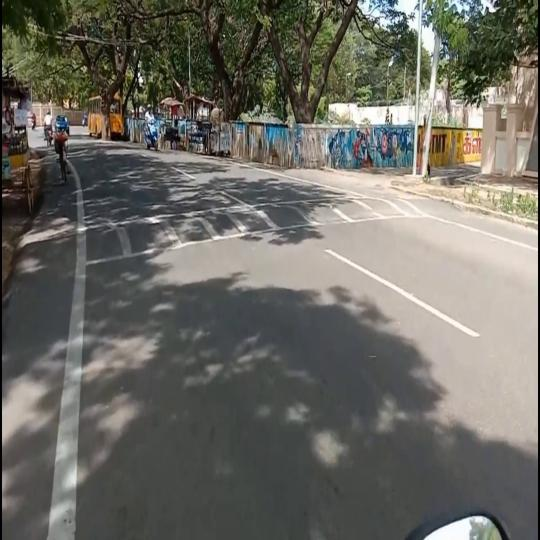Speed Bump: (13, 195, 456, 274)
